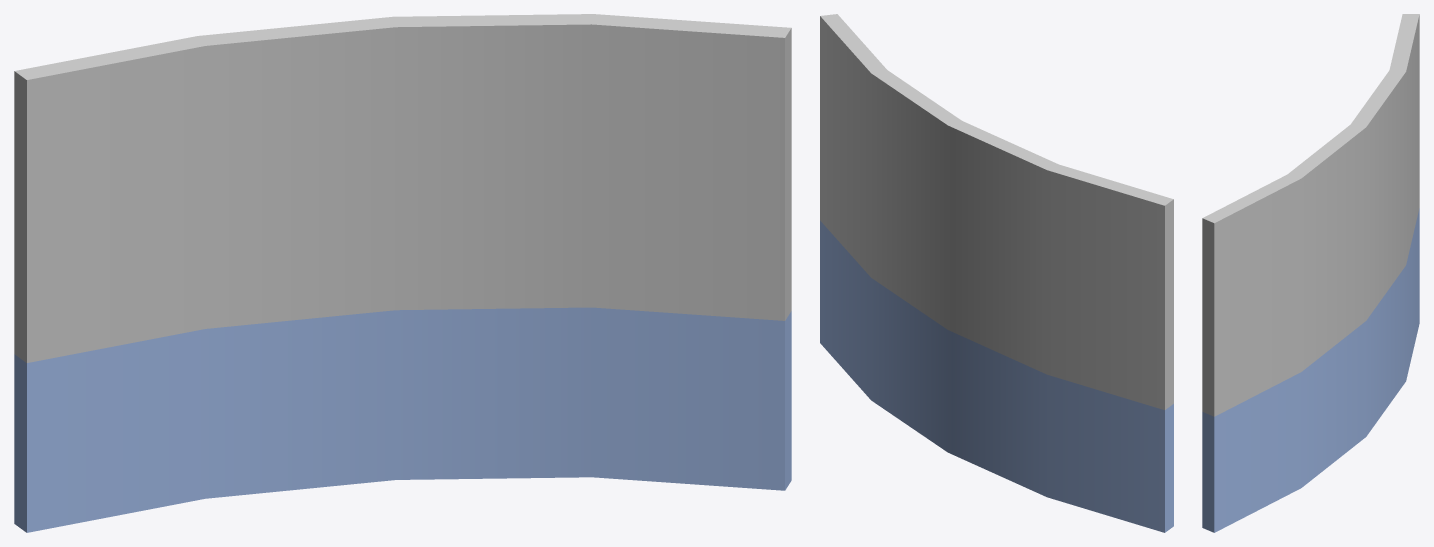
File: Wall_Curved.fbx
3 renders of one model, left to right at view 1: azimuth 30°, elevation 25°; view 2: azimuth 150°, elevation 25°; view 3: azimuth 270°, elevation 25°, orthographic. The views are drawn at different scales.
Visible parts, largest first — view 1: Wall_Curved; view 2: Wall_Curved; view 3: Wall_Curved.
Part boxes in pixels (x1,y1,x2,y2): Wall_Curved: (14,14,791,532); Wall_Curved: (820,14,1173,532); Wall_Curved: (1202,14,1419,532).
Bounding box in the file's own units: 5.8 × 4 × 2.54.
